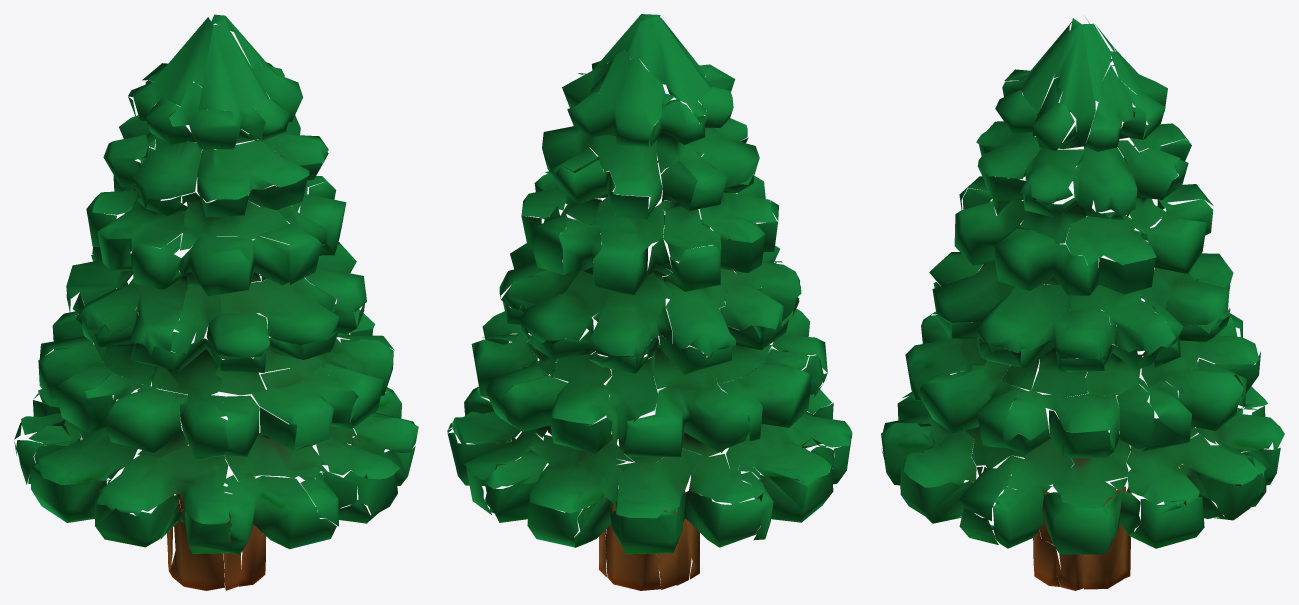
Rendered from nadelbaum_2.glb.
3 views of the same model, side by side, from view 1: azimuth 30°, elevation 25°; view 2: azimuth 150°, elevation 25°; view 3: azimuth 270°, elevation 25° (orthographic).
Parts seen in each view (by area): view 1: tripo_node_07478040-c0ef-49b0-8a2d-1a1b8152380b; view 2: tripo_node_07478040-c0ef-49b0-8a2d-1a1b8152380b; view 3: tripo_node_07478040-c0ef-49b0-8a2d-1a1b8152380b.
Part boxes in pixels (box(x1,y1,x2,y2)): tripo_node_07478040-c0ef-49b0-8a2d-1a1b8152380b: box(14, 14, 418, 590); tripo_node_07478040-c0ef-49b0-8a2d-1a1b8152380b: box(447, 14, 852, 590); tripo_node_07478040-c0ef-49b0-8a2d-1a1b8152380b: box(881, 17, 1284, 590).
Bounding box in the file's own units: 0.6698 × 1.01 × 0.6662.
Materials: 1 (1 with a texture image).
